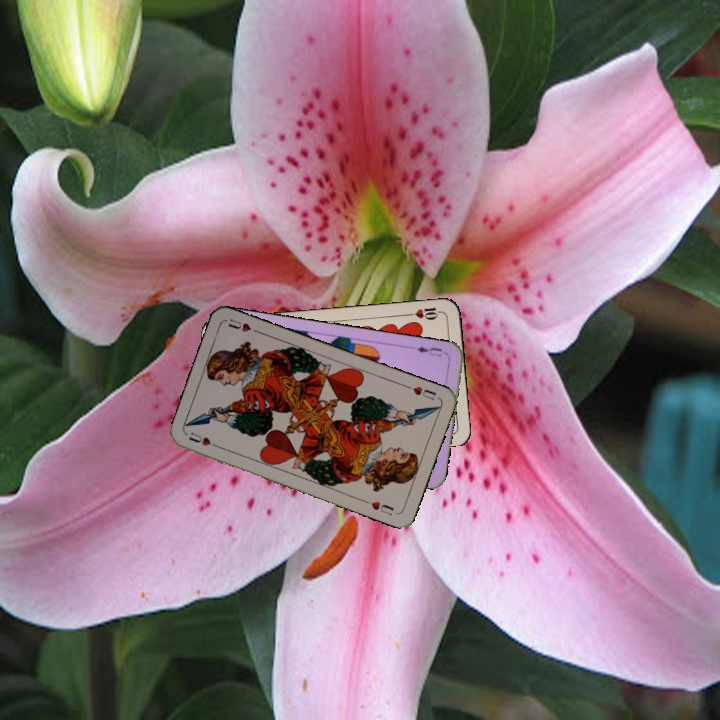EU: (408, 342, 444, 359)
H10: (403, 303, 444, 322)
HU: (185, 428, 222, 451), (402, 381, 438, 403)
